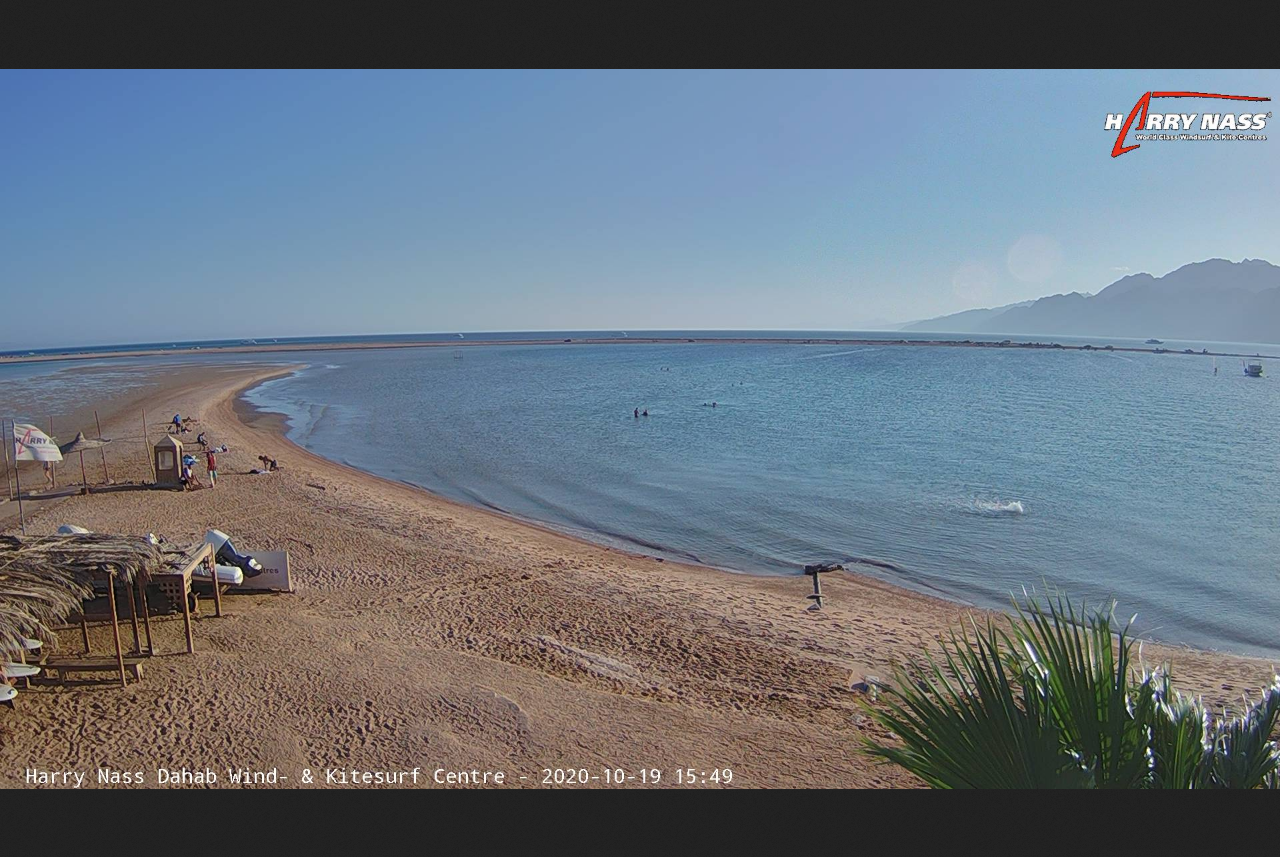yes: (7, 420, 70, 470)
